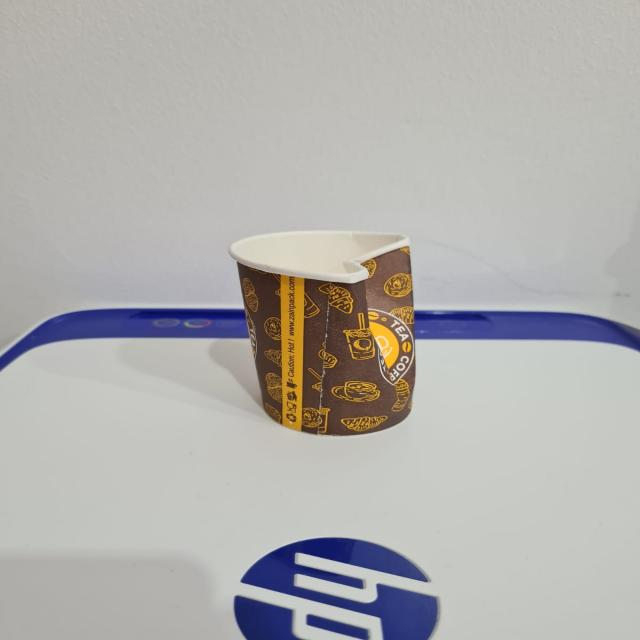cups: (214, 214, 449, 446)
